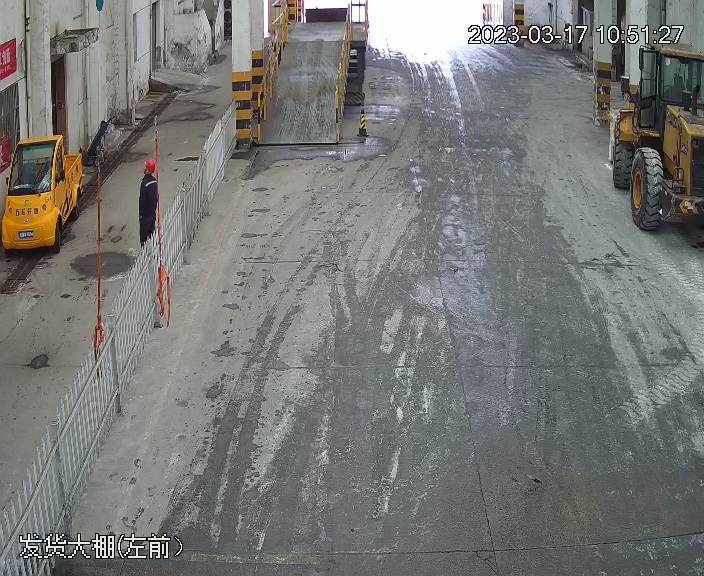head: (140, 158, 158, 191)
helmet: (140, 158, 158, 188), (143, 158, 157, 171)
people: (135, 158, 159, 248)
